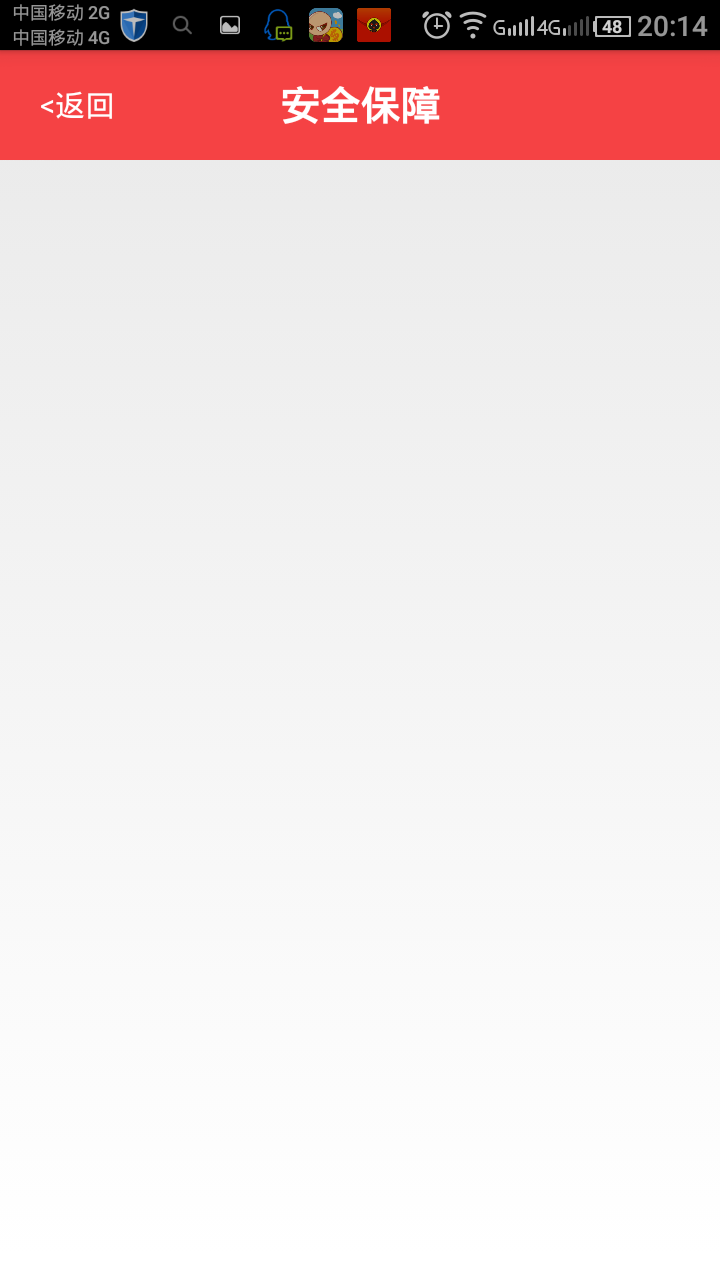button: (10, 73, 136, 146)
